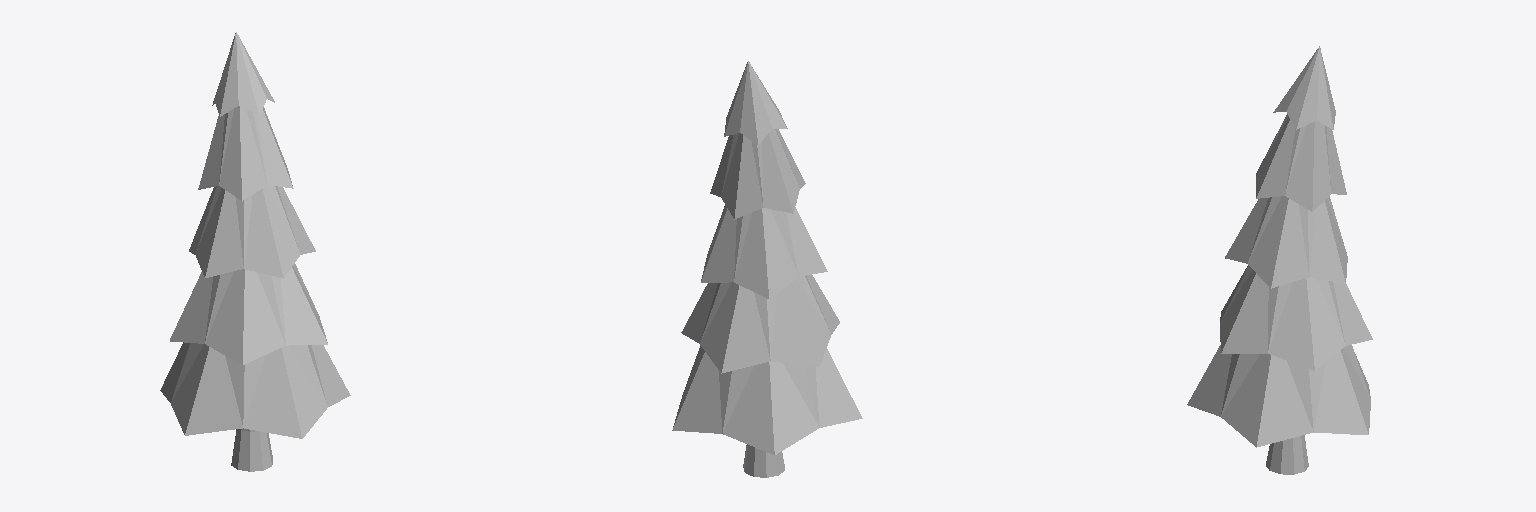
Rendered from TreeSwaying7.obj.
3 views of the same model, side by side, from view 1: azimuth 30°, elevation 25°; view 2: azimuth 150°, elevation 25°; view 3: azimuth 270°, elevation 25° (orthographic).
Visible parts, largest first — view 1: Cylinder.001; view 2: Cylinder.001; view 3: Cylinder.001.
Part boxes in pixels (left/top/right/bottom): Cylinder.001: left=160, top=32, right=350, bottom=471; Cylinder.001: left=672, top=61, right=862, bottom=477; Cylinder.001: left=1187, top=46, right=1372, bottom=474.
Size of the model in its own units: 5.86 by 14.2 by 5.7.